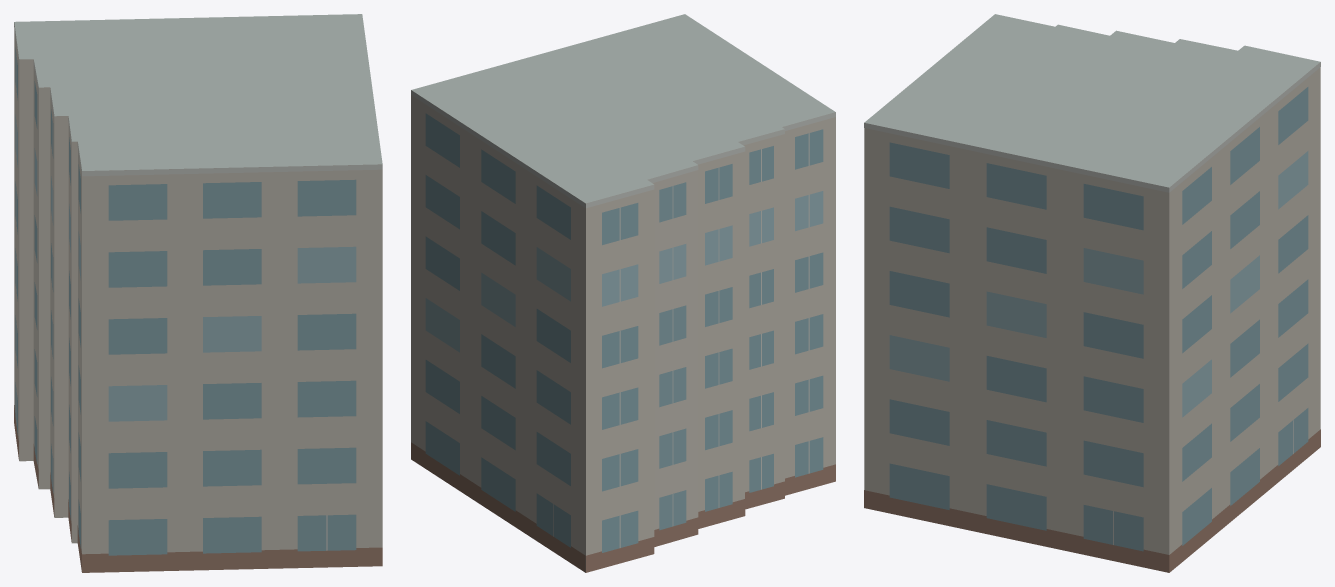
The model's file is survey-upis-32921064.glb.
The picture shows the model from 3 angles, left to right: view 1: azimuth 30°, elevation 25°; view 2: azimuth 150°, elevation 25°; view 3: azimuth 270°, elevation 25°; orthographic projection. The views are drawn at different scales.
Visible parts, largest first — view 1: survey-upis-32921064.tmp; view 2: survey-upis-32921064.tmp; view 3: survey-upis-32921064.tmp.
Boxes of the visible parts, x1,y1,x2,y2 form: survey-upis-32921064.tmp: [14, 14, 382, 572]; survey-upis-32921064.tmp: [411, 14, 835, 572]; survey-upis-32921064.tmp: [864, 14, 1320, 572].
Size of the model in its own units: 17.69 by 18.3 by 19.67.
